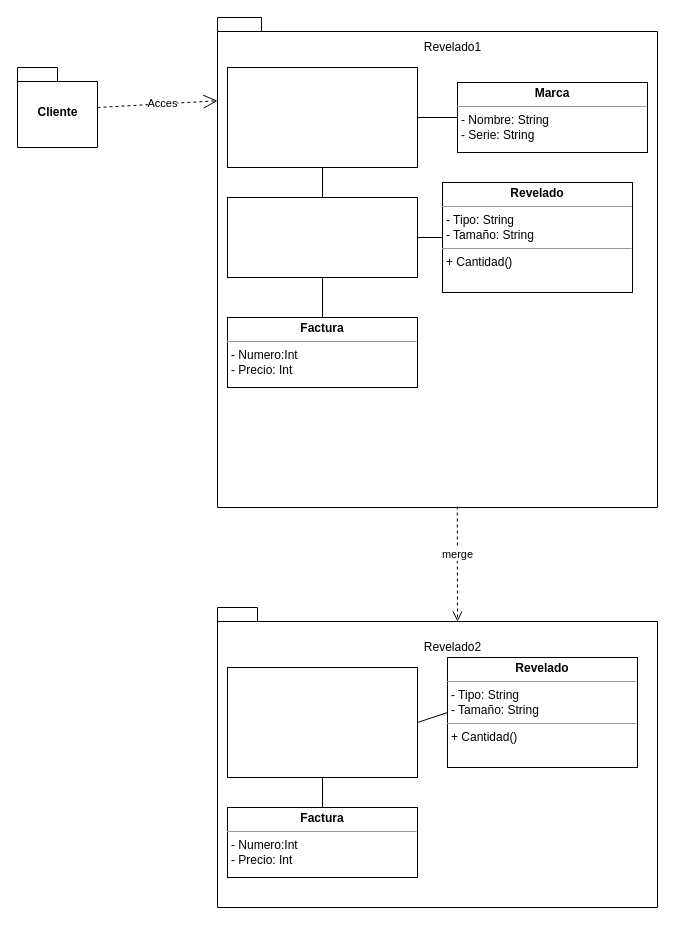
The diagram is 675 pixels wide and 925 high, and some of its shapes have lost their labels. The centre of each missing label's shape, as x and y in pixels:
"Camara - Nombre: String + Marca() +Pelicula" goes at [322,117].
"Empleado - Nombre: String - Edad: Int +Revelado +Factura" goes at [322,722].
"Pelicula - formato_peli : String - iso_pelicula : String" goes at [322,237].
